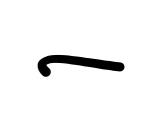minus: (38, 55, 124, 77)
